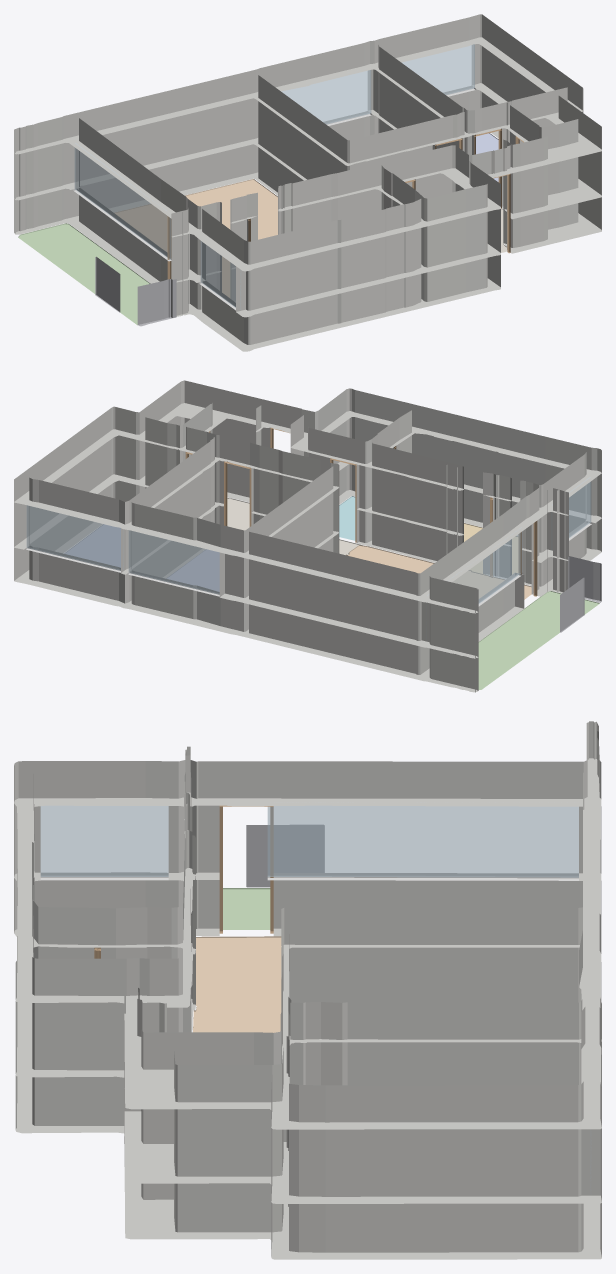
3 renders of one model, top to bottom at view 1: azimuth 30°, elevation 25°; view 2: azimuth 150°, elevation 25°; view 3: azimuth 270°, elevation 25°, orthographic. The views are drawn at different scales.
Visible parts, largest first — view 1: walls, window_10, floor_0_Outdoor, floor_5_Living_Room, window_8, railings, window_9, window_11, sill_10; view 2: walls, floor_0_Outdoor, window_9, window_8, window_10, railings, floor_5_Living_Room, floor_7_Bed_Room, floor_6_Bed_Room, window_11, floor_10_Entry, floor_8_Bath (+3 smaller); view 3: walls, window_10, window_11, floor_5_Living_Room, railings, floor_0_Outdoor, sill_10, door_2, sill_11.
Boxes of the visible parts, left/top/right/bottom form: walls: left=14, top=14, right=601, bottom=351; window_10: left=74, top=143, right=170, bottom=259; floor_0_Outdoor: left=18, top=223, right=150, bottom=325; floor_5_Living_Room: left=115, top=179, right=277, bottom=297; window_8: left=281, top=70, right=371, bottom=124; railings: left=95, top=256, right=176, bottom=326; window_9: left=402, top=44, right=474, bottom=94; window_11: left=200, top=241, right=240, bottom=309; sill_10: left=73, top=189, right=171, bottom=261; walls: left=14, top=380, right=601, bottom=692; floor_0_Outdoor: left=478, top=591, right=599, bottom=689; window_9: left=26, top=505, right=123, bottom=570; window_8: left=128, top=530, right=219, bottom=594; window_10: left=426, top=527, right=522, bottom=638; railings: left=560, top=556, right=601, bottom=632; floor_5_Living_Room: left=346, top=545, right=531, bottom=599; floor_7_Bed_Room: left=64, top=524, right=120, bottom=567; floor_6_Bed_Room: left=166, top=549, right=219, bottom=591; window_11: left=551, top=477, right=591, bottom=549; floor_10_Entry: left=227, top=498, right=362, bottom=554; floor_8_Bath: left=339, top=496, right=355, bottom=540; walls: left=14, top=721, right=601, bottom=1259; window_10: left=267, top=805, right=578, bottom=877; window_11: left=40, top=805, right=168, bottom=876; floor_5_Living_Room: left=193, top=936, right=281, bottom=1032; railings: left=246, top=825, right=324, bottom=887; floor_0_Outdoor: left=223, top=888, right=270, bottom=929; sill_10: left=267, top=875, right=578, bottom=880; door_2: left=219, top=805, right=273, bottom=933; sill_11: left=40, top=875, right=168, bottom=880.
Bounding box in the file's own units: 12.91 × 2.72 × 8.6.
